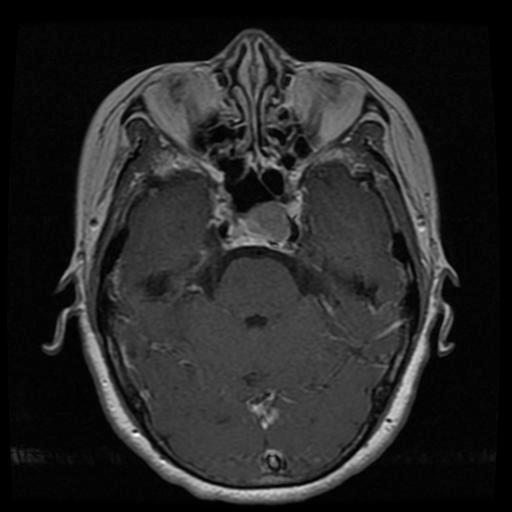Tumour-Pituitary: (211, 203, 303, 260)
